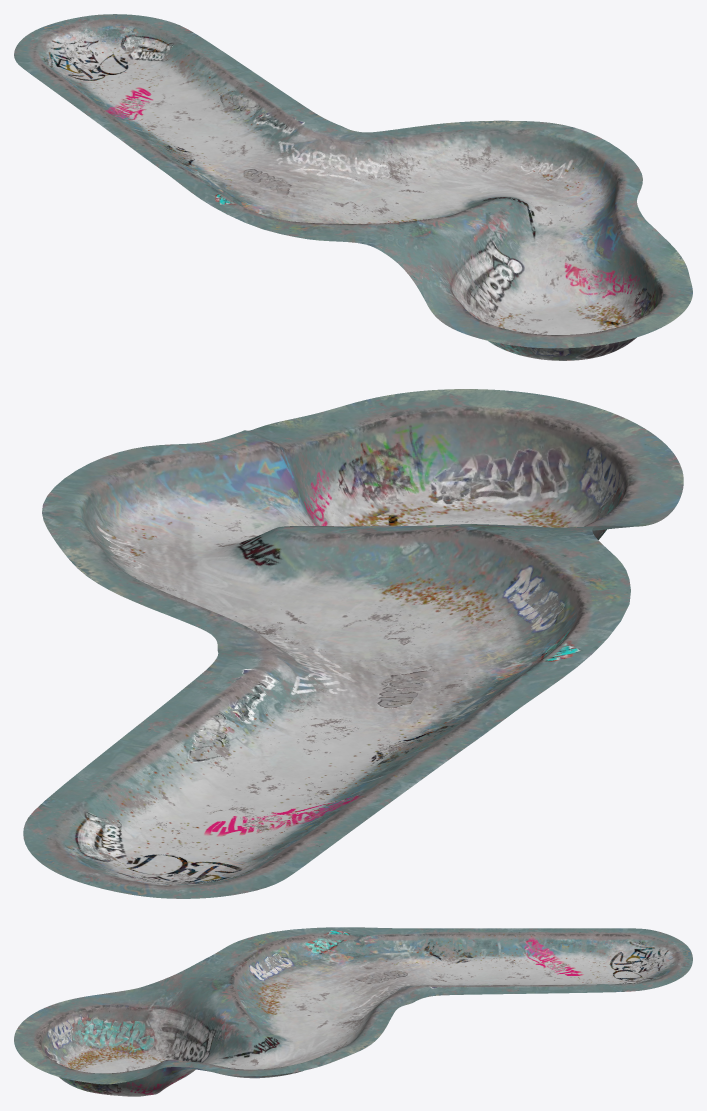
File: GriffinBowl.glb
3 renders of one model, top to bottom at view 1: azimuth 30°, elevation 25°; view 2: azimuth 150°, elevation 25°; view 3: azimuth 270°, elevation 25°, orthographic. The views are drawn at different scales.
Visible parts, largest first — view 1: Bowl Mesh_Bowl_0; view 2: Bowl Mesh_Bowl_0; view 3: Bowl Mesh_Bowl_0.
Boxes of the visible parts, x1,y1,x2,y2 form: Bowl Mesh_Bowl_0: (14, 14, 692, 360); Bowl Mesh_Bowl_0: (23, 389, 683, 898); Bowl Mesh_Bowl_0: (14, 927, 692, 1096).
Bounding box in the file's own units: 7.09 × 1.51 × 14.17.
1 material, 1 textured.
